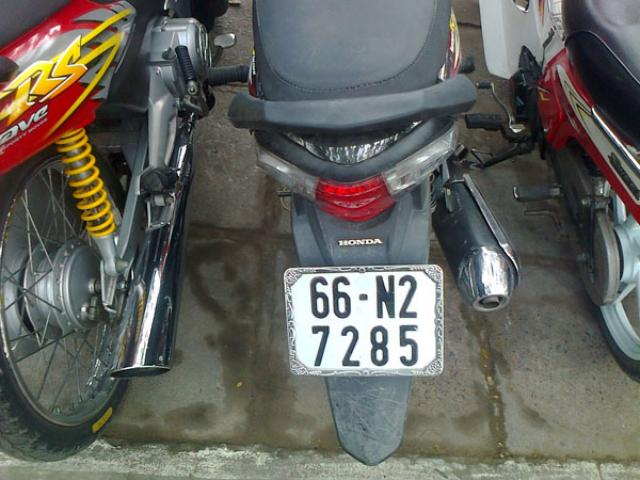plate: (288, 270, 444, 372)
